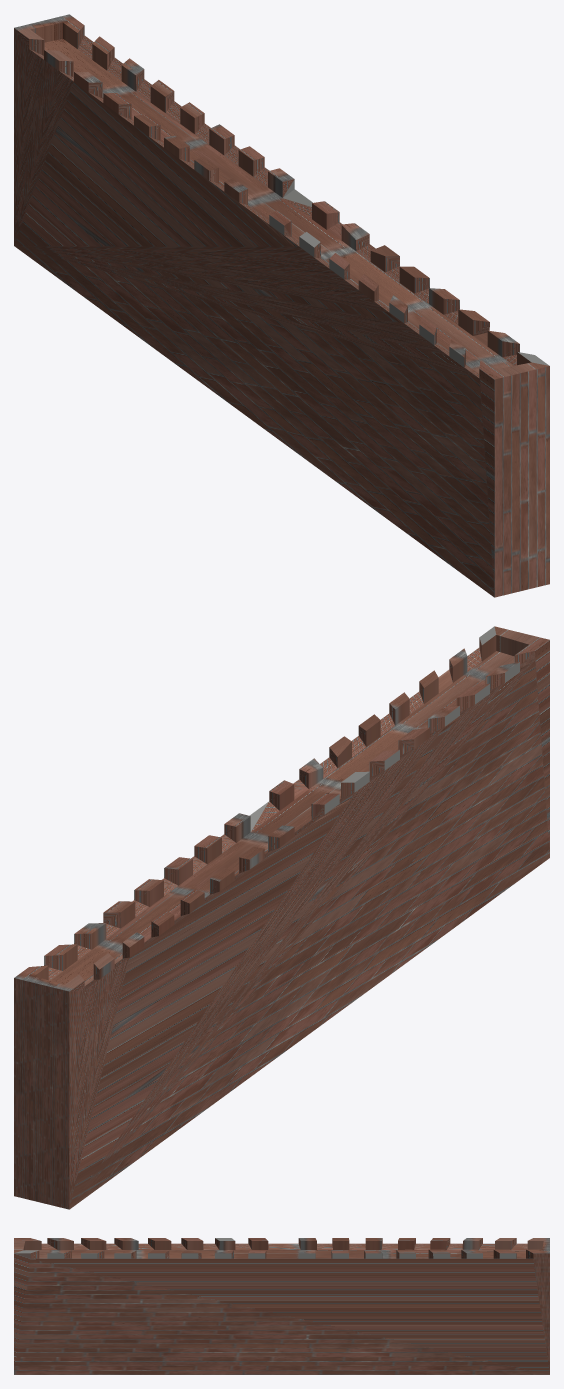
The model's file is wall.fbx.
3 views of the same model, one above another, from view 1: azimuth 30°, elevation 25°; view 2: azimuth 150°, elevation 25°; view 3: azimuth 270°, elevation 25° (orthographic). The views are drawn at different scales.
Parts seen in each view (by area): view 1: Cube; view 2: Cube; view 3: Cube.
Part boxes in pixels (left/top/right/bottom): Cube: left=14, top=14, right=549, bottom=597; Cube: left=14, top=626, right=549, bottom=1209; Cube: left=14, top=1238, right=549, bottom=1374.
Bounding box in the file's own units: 2 × 7.51 × 30.
1 material, 1 textured.
